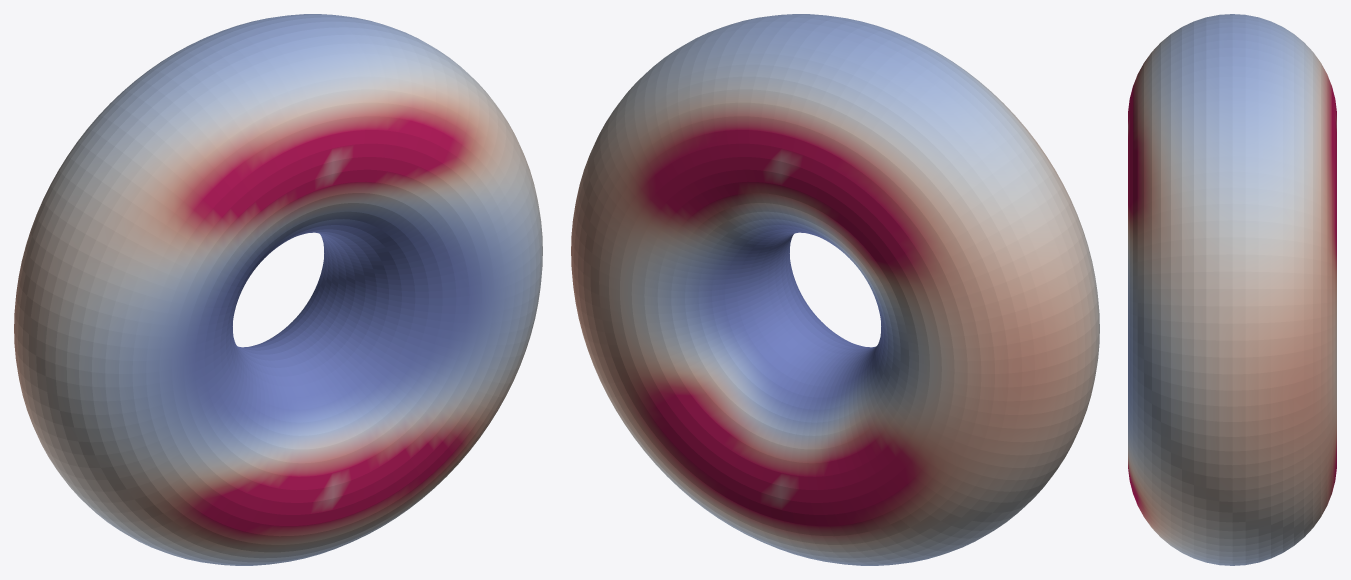
The picture shows the model from 3 angles, left to right: view 1: azimuth 30°, elevation 25°; view 2: azimuth 150°, elevation 25°; view 3: azimuth 270°, elevation 25°; orthographic projection. The views are drawn at different scales.
Parts seen in each view (by area): view 1: world; view 2: world; view 3: world.
Part boxes in pixels (x1=…): world: x1=14, y1=14, x2=542, y2=565; world: x1=571, y1=14, x2=1099, y2=565; world: x1=1128, y1=14, x2=1336, y2=565.
Size of the model in its own units: 19.33 by 19.33 by 7.32.
